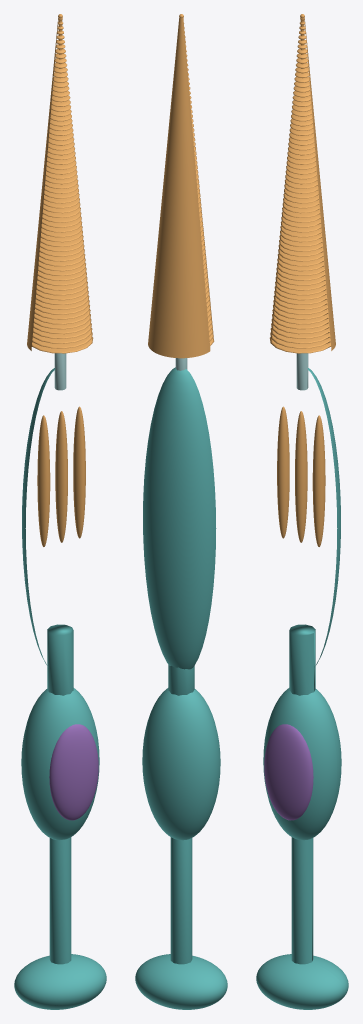
The model's file is bio3d2-cone.glb.
3 views of the same model, side by side, from view 1: azimuth 30°, elevation 25°; view 2: azimuth 150°, elevation 25°; view 3: azimuth 330°, elevation 25° (orthographic).
Visible parts, largest first — view 1: Outer segment membrane folds (schematic), Nuclear cell body, Inner segment mitochondria (schematic), Synaptic pedicel, Nucleus, Inner fibre, Continuous cell body to inner segment, Inner segment; mitochondria-rich ellipsoid, Outer membrane joining the folds (rear half), Connecting cilium; view 2: Inner segment; mitochondria-rich ellipsoid, Outer membrane joining the folds (rear half), Nuclear cell body, Synaptic pedicel, Inner fibre, Outer segment membrane folds (schematic), Continuous cell body to inner segment; view 3: Outer segment membrane folds (schematic), Nuclear cell body, Inner segment mitochondria (schematic), Synaptic pedicel, Nucleus, Inner fibre, Continuous cell body to inner segment, Inner segment; mitochondria-rich ellipsoid, Outer membrane joining the folds (rear half), Connecting cilium.
Boxes of the visible parts, x1,y1,x2,y2 form: Outer segment membrane folds (schematic): (32,18,93,353); Nuclear cell body: (21,688,99,840); Inner segment mitochondria (schematic): (37,406,85,546); Synaptic pedicel: (14,954,106,1009); Nucleus: (49,724,98,820); Inner fibre: (49,837,71,964); Continuous cell body to inner segment: (47,624,73,695); Inner segment; mitochondria-rich ellipsoid: (22,368,55,664); Outer membrane joining the folds (rear half): (27,18,58,350); Connecting cilium: (54,353,66,390); Inner segment; mitochondria-rich ellipsoid: (143,367,216,669); Outer membrane joining the folds (rear half): (148,18,210,358); Nuclear cell body: (142,688,220,840); Synaptic pedicel: (135,954,227,1009); Inner fibre: (170,837,192,964); Outer segment membrane folds (schematic): (183,18,214,346); Continuous cell body to inner segment: (168,665,194,695); Outer segment membrane folds (schematic): (269,18,330,353); Nuclear cell body: (263,688,341,840); Inner segment mitochondria (schematic): (277,406,325,546); Synaptic pedicel: (256,954,348,1009); Nucleus: (264,724,313,820); Inner fibre: (291,837,313,964); Continuous cell body to inner segment: (289,624,315,695); Inner segment; mitochondria-rich ellipsoid: (307,368,340,664); Outer membrane joining the folds (rear half): (304,18,335,350); Connecting cilium: (296,353,308,390).
Bounding box in the file's own units: 4 × 45 × 3.2.
